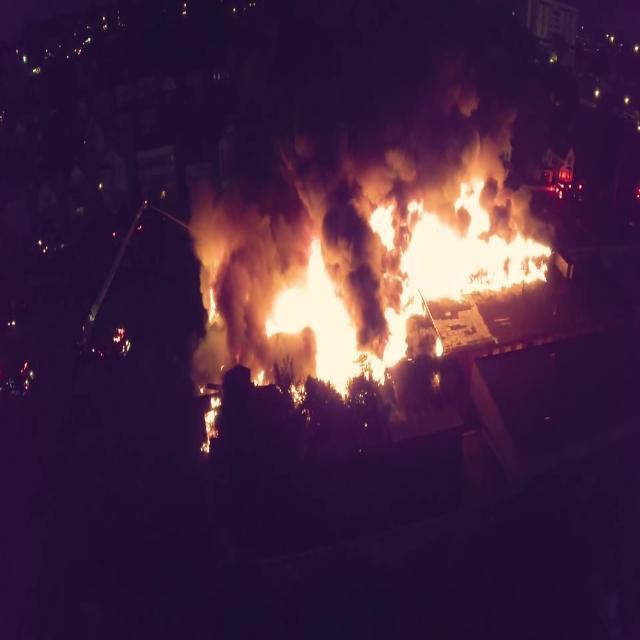Fire: (386, 190, 468, 292), (292, 250, 352, 378), (471, 228, 545, 286), (112, 312, 142, 380), (202, 398, 226, 468), (267, 286, 304, 330), (385, 304, 410, 366), (430, 333, 445, 360)
Smoke: (365, 108, 508, 176), (278, 116, 357, 213), (238, 150, 280, 244), (356, 232, 382, 338)
